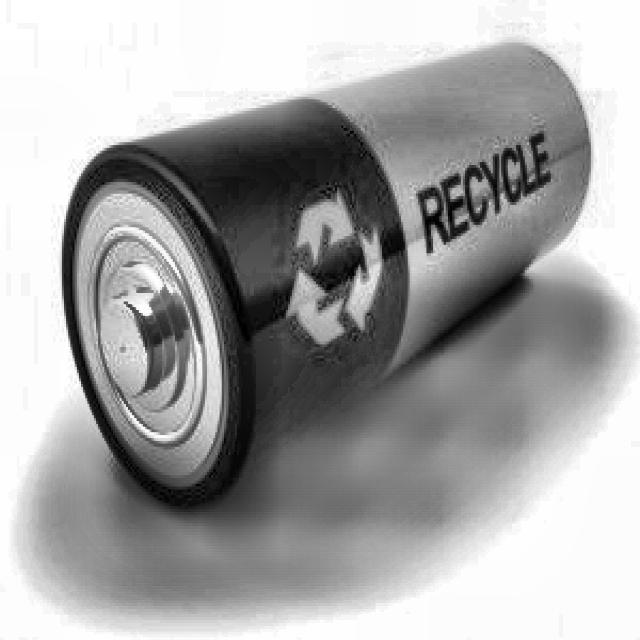drycell: (62, 46, 593, 517)
